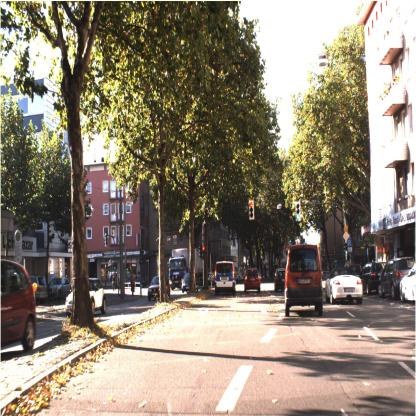priority road: (343, 231, 349, 241)
